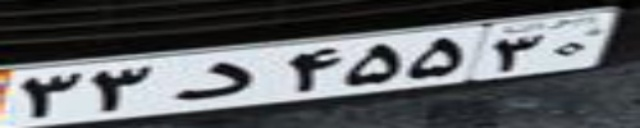0: (551, 40, 588, 58)
3: (91, 65, 150, 113), (22, 70, 80, 118), (493, 32, 543, 71)
4: (290, 47, 338, 93)
5: (345, 42, 400, 87), (408, 37, 464, 78)
dal: (175, 62, 256, 99)
